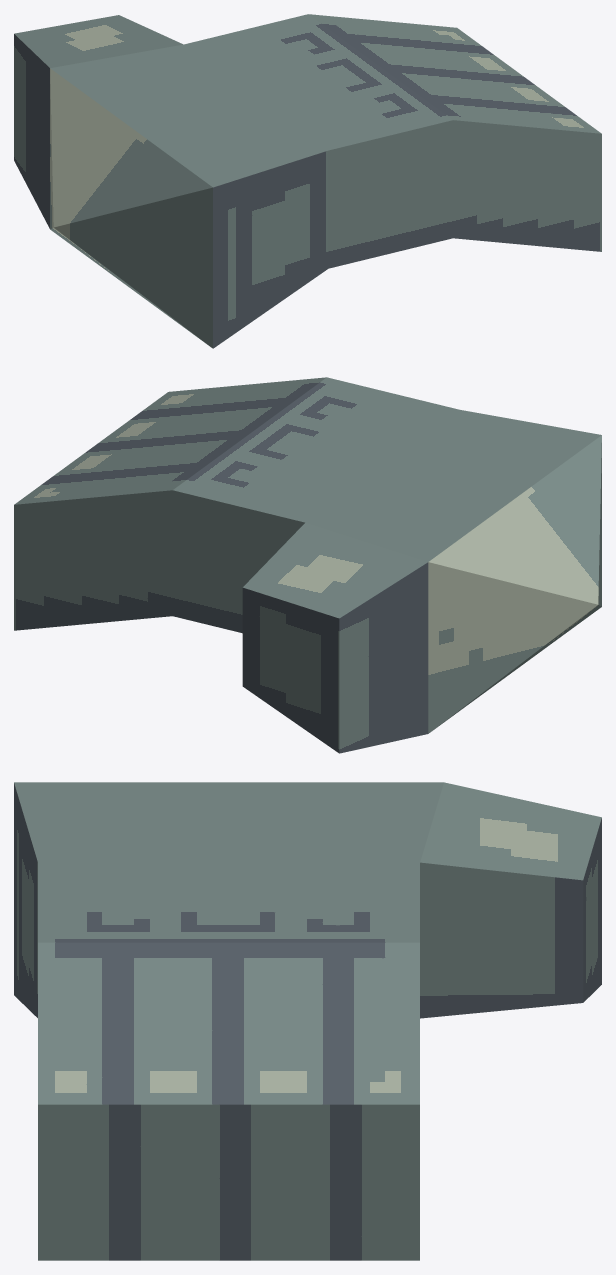
File: god_fist.glb
3 views of the same model, one above another, from view 1: azimuth 30°, elevation 25°; view 2: azimuth 150°, elevation 25°; view 3: azimuth 270°, elevation 25° (orthographic). The views are drawn at different scales.
Visible parts, largest first — view 1: Cube.197; view 2: Cube.197; view 3: Cube.197.
Part boxes in pixels (<box>): Cube.197: <box>14,14,601,348</box>; Cube.197: <box>14,377,601,753</box>; Cube.197: <box>14,782,601,1260</box>.
Size of the model in its own units: 2.39 by 0.807 by 1.94.
Materials: 1 (1 with a texture image).
